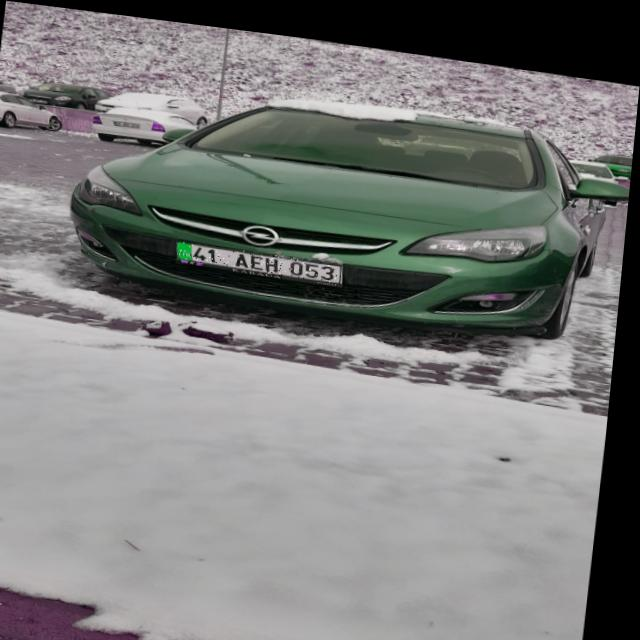license_plate: (179, 236, 347, 274)
